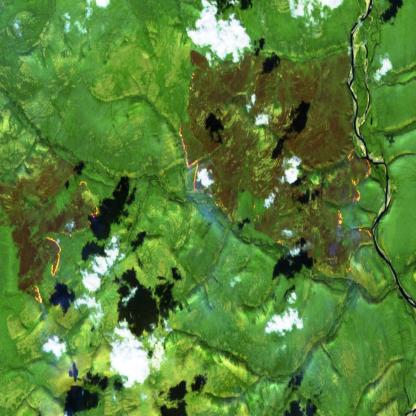fire: (13, 173, 98, 311), (325, 144, 380, 260), (171, 110, 211, 205), (249, 200, 271, 231)
